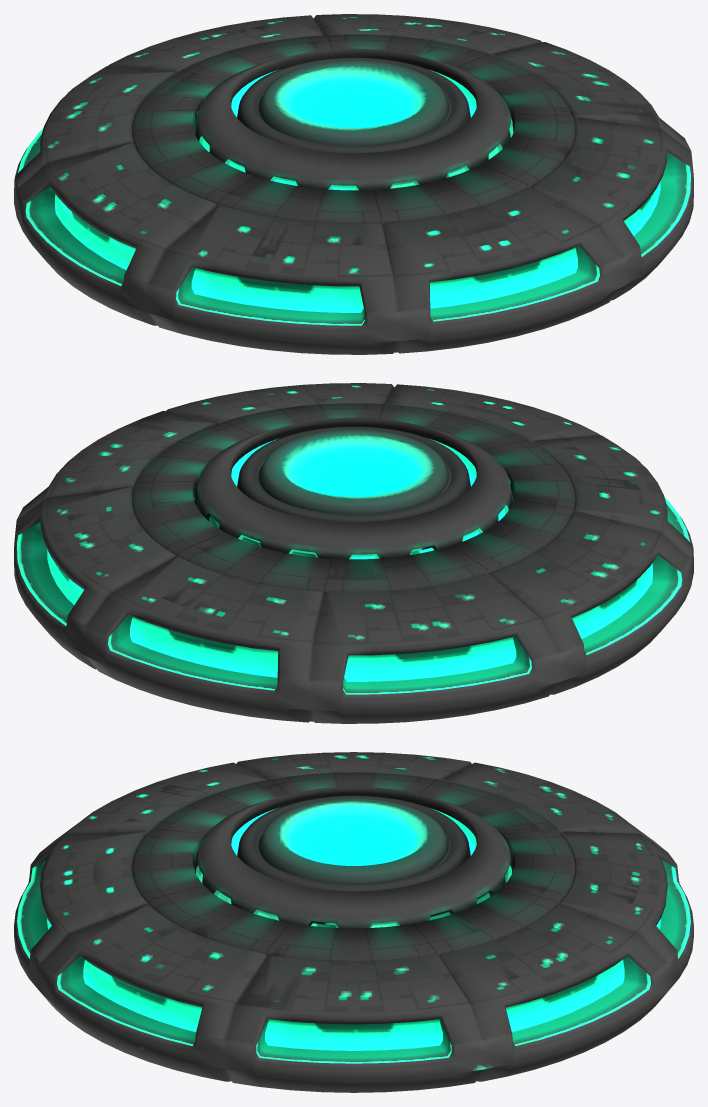
File: UFO.fbx
3 views of the same model, one above another, from view 1: azimuth 30°, elevation 25°; view 2: azimuth 150°, elevation 25°; view 3: azimuth 270°, elevation 25° (orthographic).
Parts seen in each view (by area): view 1: Object_4; view 2: Object_4; view 3: Object_4.
Boxes of the visible parts, <box> form: Object_4: <box>14,14,693,354</box>; Object_4: <box>14,383,693,723</box>; Object_4: <box>14,752,693,1092</box>.
Bounding box in the file's own units: 2938 × 832 × 2938.
